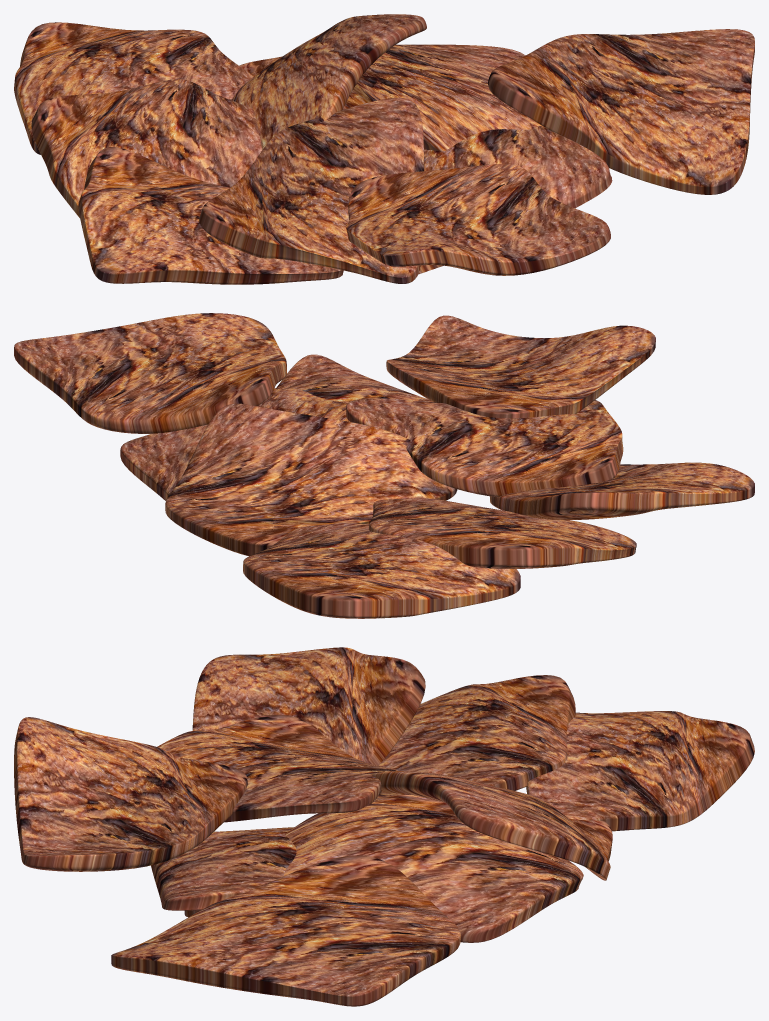
The model's file is kesilmis1.fbx.
3 views of the same model, one above another, from view 1: azimuth 30°, elevation 25°; view 2: azimuth 150°, elevation 25°; view 3: azimuth 270°, elevation 25° (orthographic). The views are drawn at different scales.
Parts seen in each view (by area): view 1: Plane.002; view 2: Plane.002; view 3: Plane.002.
Boxes of the visible parts, x1=… form: Plane.002: x1=14, y1=14, x2=754, y2=284; Plane.002: x1=14, y1=313, x2=754, y2=618; Plane.002: x1=14, y1=647, x2=754, y2=1006.
Size of the model in its own units: 178 by 27.66 by 154.
